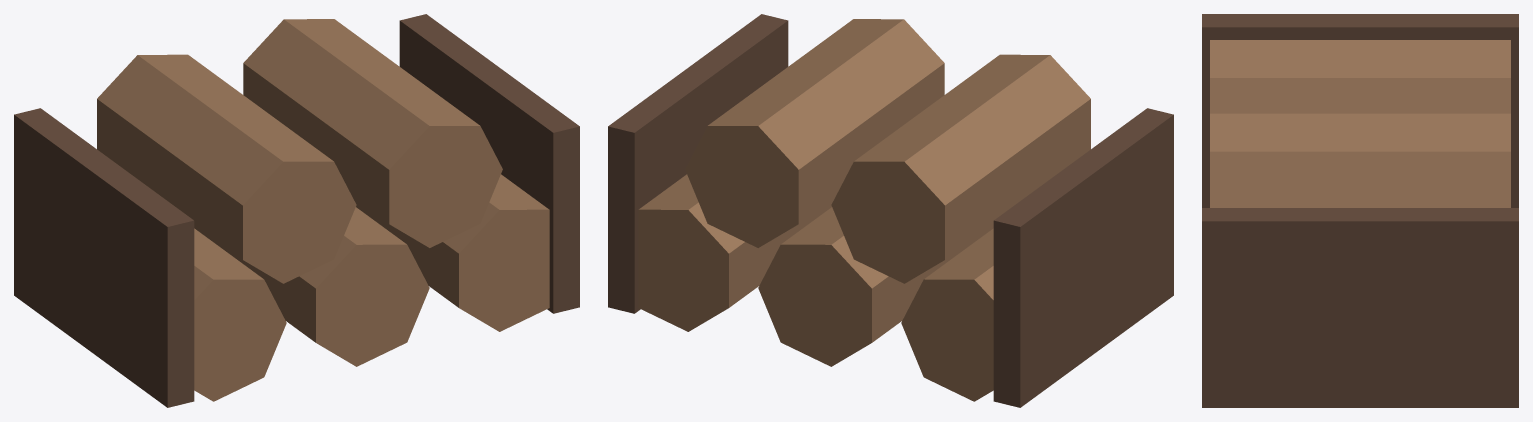
The model's file is ENV_Logpile_A_LOD0.glb.
The picture shows the model from 3 angles, left to right: view 1: azimuth 30°, elevation 25°; view 2: azimuth 150°, elevation 25°; view 3: azimuth 270°, elevation 25°; orthographic projection. The views are drawn at different scales.
Parts seen in each view (by area): view 1: ENV_Logpile_A_LOD0_cut_wood_woodLight, ENV_Logpile_A_LOD0_bindings_woodDark; view 2: ENV_Logpile_A_LOD0_cut_wood_woodLight, ENV_Logpile_A_LOD0_bindings_woodDark; view 3: ENV_Logpile_A_LOD0_bindings_woodDark, ENV_Logpile_A_LOD0_cut_wood_woodLight.
Part boxes in pixels (x1,y1,x2,y2): ENV_Logpile_A_LOD0_cut_wood_woodLight: [97, 19, 549, 401]; ENV_Logpile_A_LOD0_bindings_woodDark: [14, 14, 579, 407]; ENV_Logpile_A_LOD0_cut_wood_woodLight: [638, 19, 1090, 401]; ENV_Logpile_A_LOD0_bindings_woodDark: [608, 14, 1173, 407]; ENV_Logpile_A_LOD0_bindings_woodDark: [1202, 14, 1518, 407]; ENV_Logpile_A_LOD0_cut_wood_woodLight: [1210, 40, 1510, 207].
Bounding box in the file's own units: 1.24 × 0.641 × 0.8.
